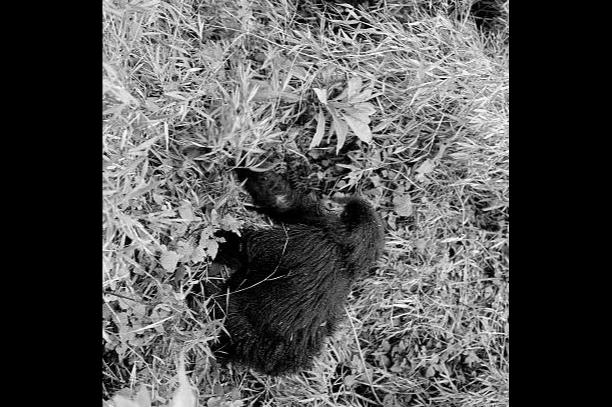goriile_montagne: (221, 178, 385, 384)
